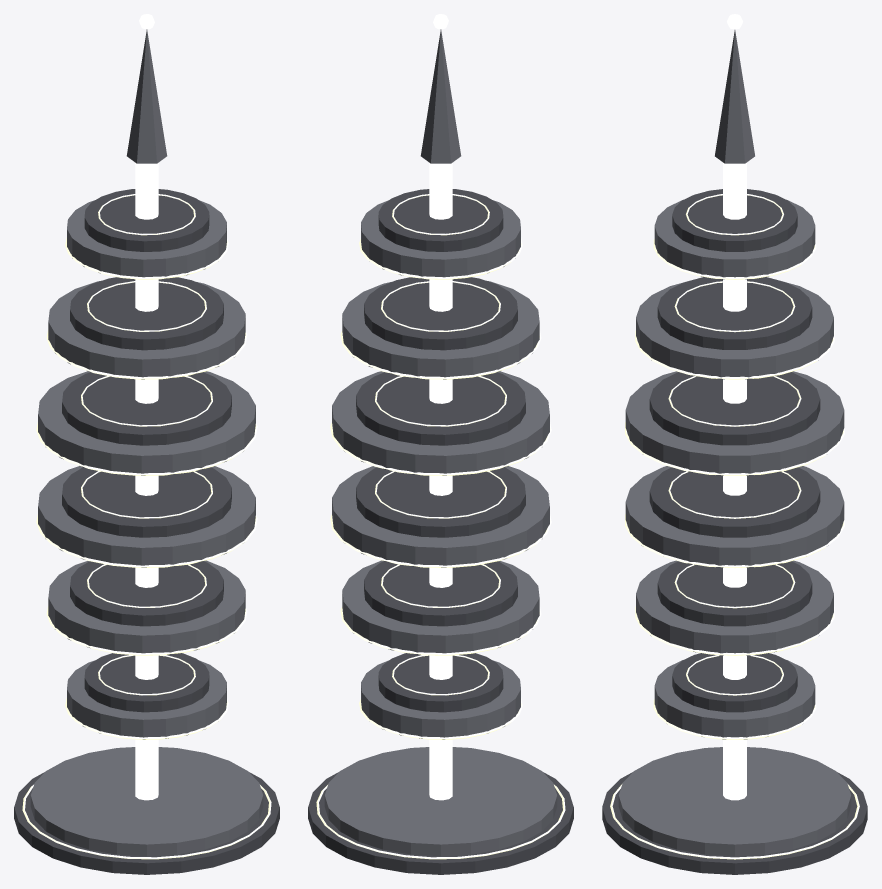
Rendered from zone_high_5.glb.
3 views of the same model, side by side, from view 1: azimuth 30°, elevation 25°; view 2: azimuth 150°, elevation 25°; view 3: azimuth 270°, elevation 25° (orthographic).
Parts seen in each view (by area): view 1: zone_high_5, detail; view 2: zone_high_5, detail; view 3: zone_high_5, detail.
Boxes of the visible parts, x1=… form: zone_high_5: x1=14, y1=14, x2=279, y2=874; detail: x1=81, y1=194, x2=212, y2=695; zone_high_5: x1=308, y1=14, x2=573, y2=874; detail: x1=375, y1=194, x2=506, y2=695; zone_high_5: x1=602, y1=14, x2=867, y2=874; detail: x1=668, y1=194, x2=801, y2=695.
Bounding box in the file's own units: 28.8 × 96.24 × 28.8.
